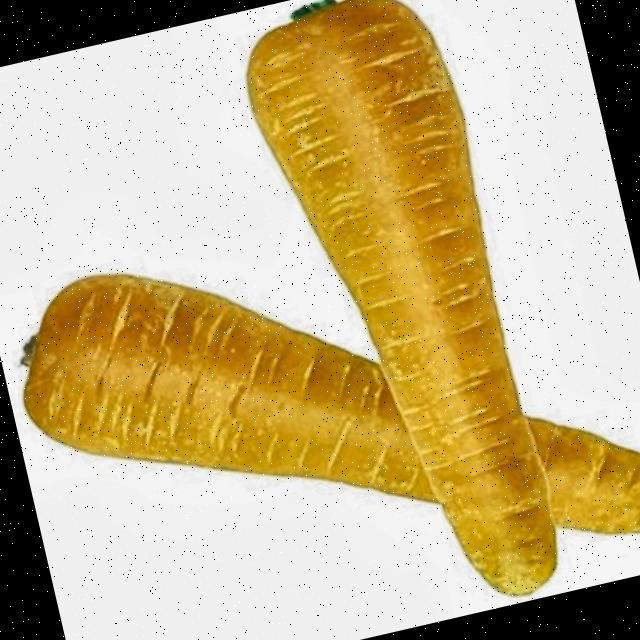carrot: (246, 0, 554, 594), (23, 274, 640, 535)
